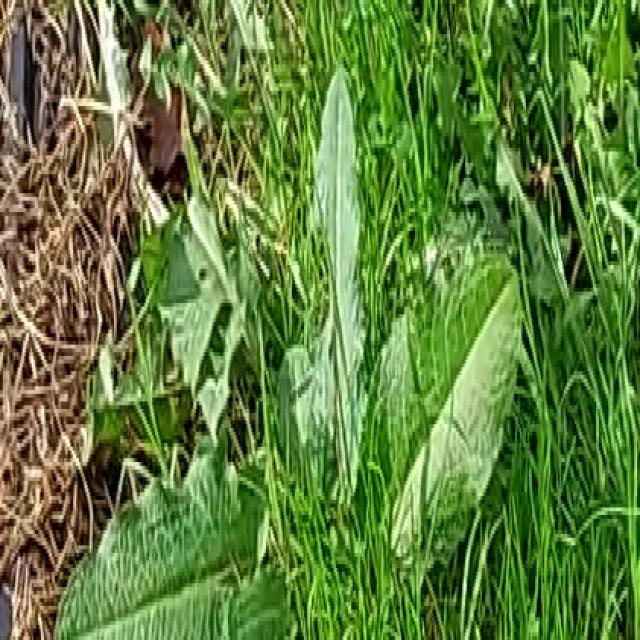organic waste: (64, 102, 520, 640)
